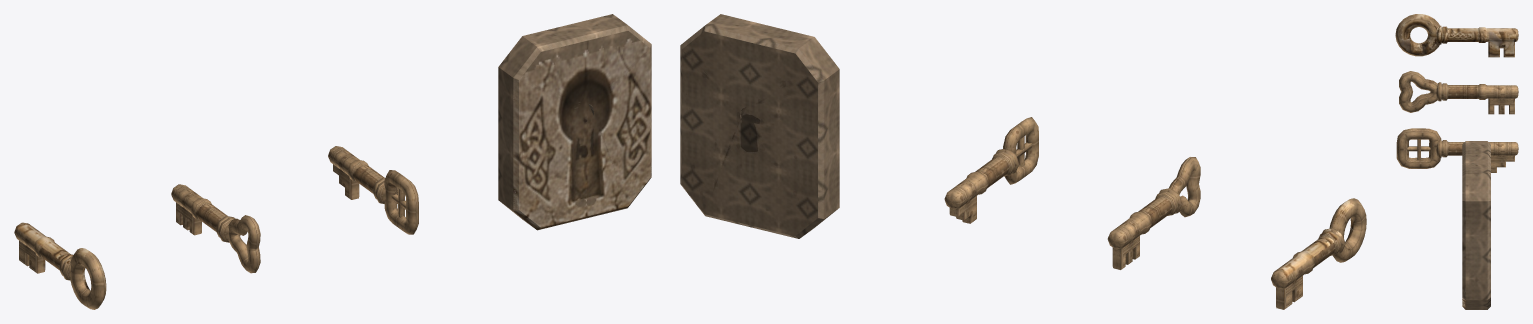
Rendered from lf_artifact_bone_key_layout_qa.glb.
3 views of the same model, side by side, from view 1: azimuth 30°, elevation 25°; view 2: azimuth 150°, elevation 25°; view 3: azimuth 270°, elevation 25° (orthographic). The views are drawn at different scales.
Parts seen in each view (by area): view 1: lf_artifact_bone_key_socket_LOD0, lf_artifact_bone_key_v3_LOD0, lf_artifact_bone_key_v1_LOD0, lf_artifact_bone_key_v2_LOD0; view 2: lf_artifact_bone_key_socket_LOD0, lf_artifact_bone_key_v1_LOD0, lf_artifact_bone_key_v3_LOD0, lf_artifact_bone_key_v2_LOD0; view 3: lf_artifact_bone_key_socket_LOD0, lf_artifact_bone_key_v1_LOD0, lf_artifact_bone_key_v2_LOD0, lf_artifact_bone_key_v3_LOD0.
Boxes of the visible parts, x1,y1,x2,y2 form: lf_artifact_bone_key_socket_LOD0: (498, 14, 651, 230); lf_artifact_bone_key_v3_LOD0: (328, 146, 418, 234); lf_artifact_bone_key_v1_LOD0: (14, 222, 106, 309); lf_artifact_bone_key_v2_LOD0: (171, 184, 260, 273); lf_artifact_bone_key_socket_LOD0: (680, 14, 839, 238); lf_artifact_bone_key_v1_LOD0: (1271, 198, 1366, 309); lf_artifact_bone_key_v3_LOD0: (944, 117, 1038, 223); lf_artifact_bone_key_v2_LOD0: (1107, 157, 1200, 269); lf_artifact_bone_key_socket_LOD0: (1462, 141, 1490, 309); lf_artifact_bone_key_v1_LOD0: (1395, 14, 1518, 57); lf_artifact_bone_key_v2_LOD0: (1399, 71, 1518, 114); lf_artifact_bone_key_v3_LOD0: (1396, 128, 1518, 172).
Size of what is drawn, in the model's own units: 0.6578 by 0.19 by 0.1557.
Materials: 1 (1 with a texture image).
